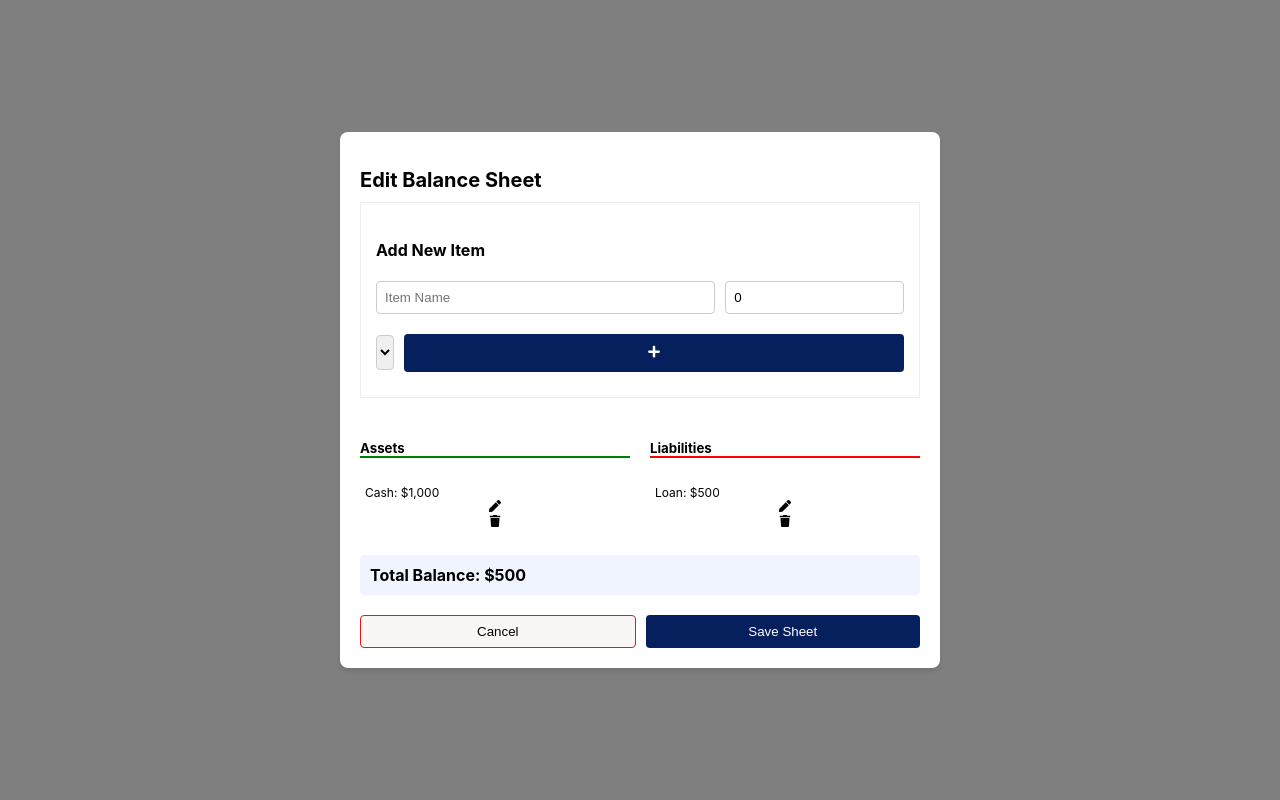
Test: BalanceSheetModal Component › can add a new item
In the field with placeholder "Item Name": (546, 297) [376,281,715,314], type "Stocks"
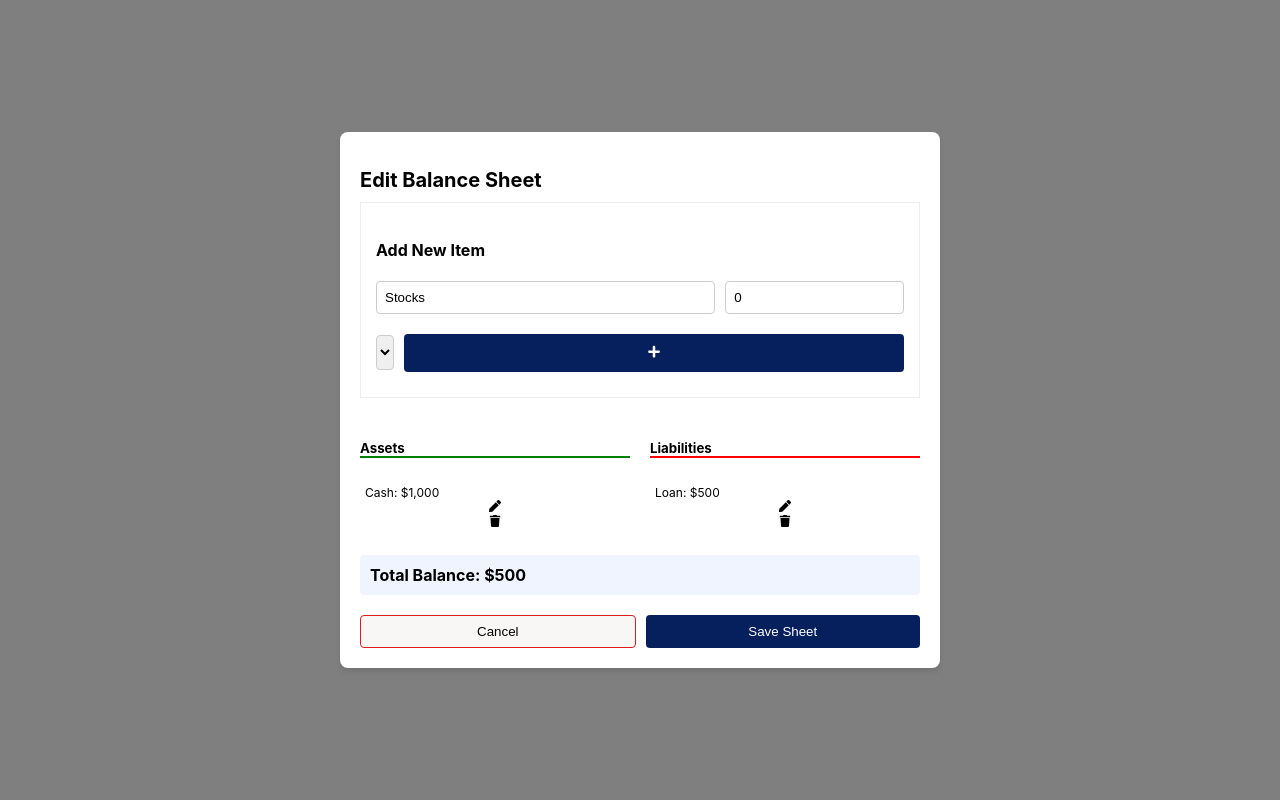
Replace the text in the number field with placeholder "Value" with "2000": (815, 297) [725,281,904,314]
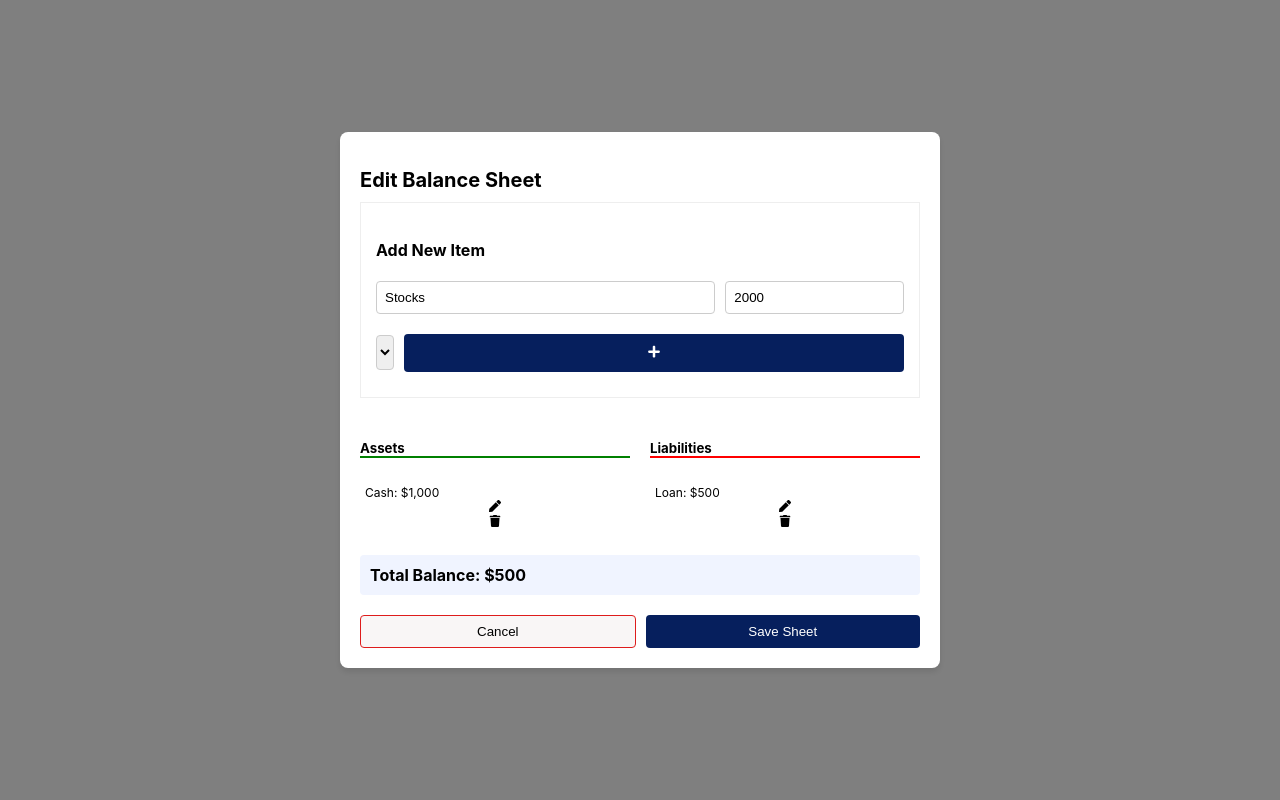
Click the 1st button: (654, 353) [404,334,904,372]
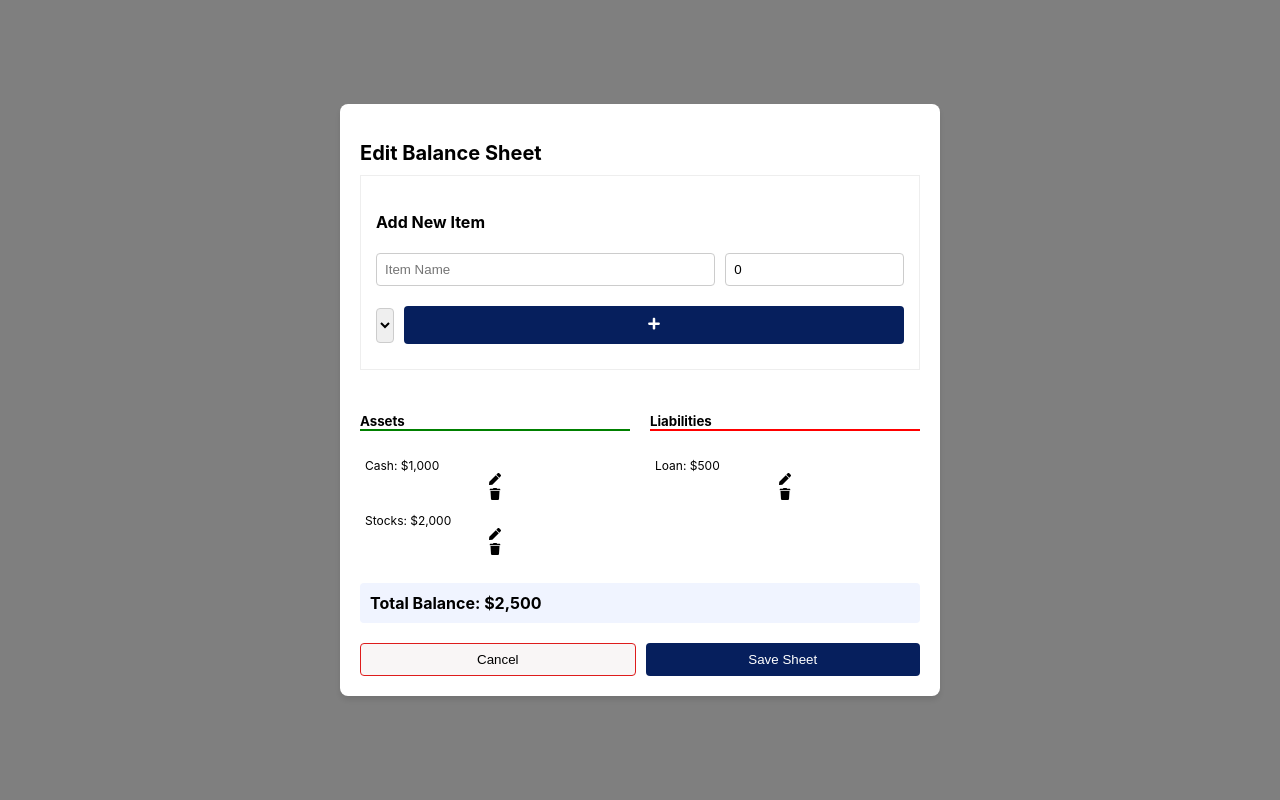
Now the text "Stocks: $2,000" is shown, box [365,513,451,528]
Now the text "Total Balance: $2,500" is shown, box [360,583,920,623]
